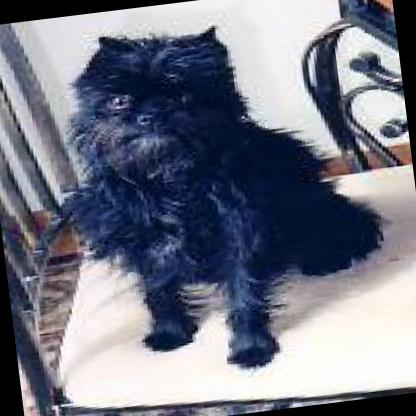affenpinscher: (0, 0, 406, 395)
